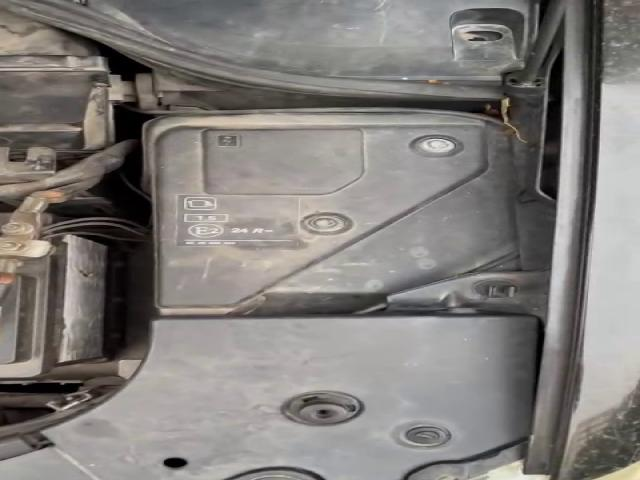accumulator: (0, 212, 111, 382)
fuse_box: (160, 127, 508, 310)
